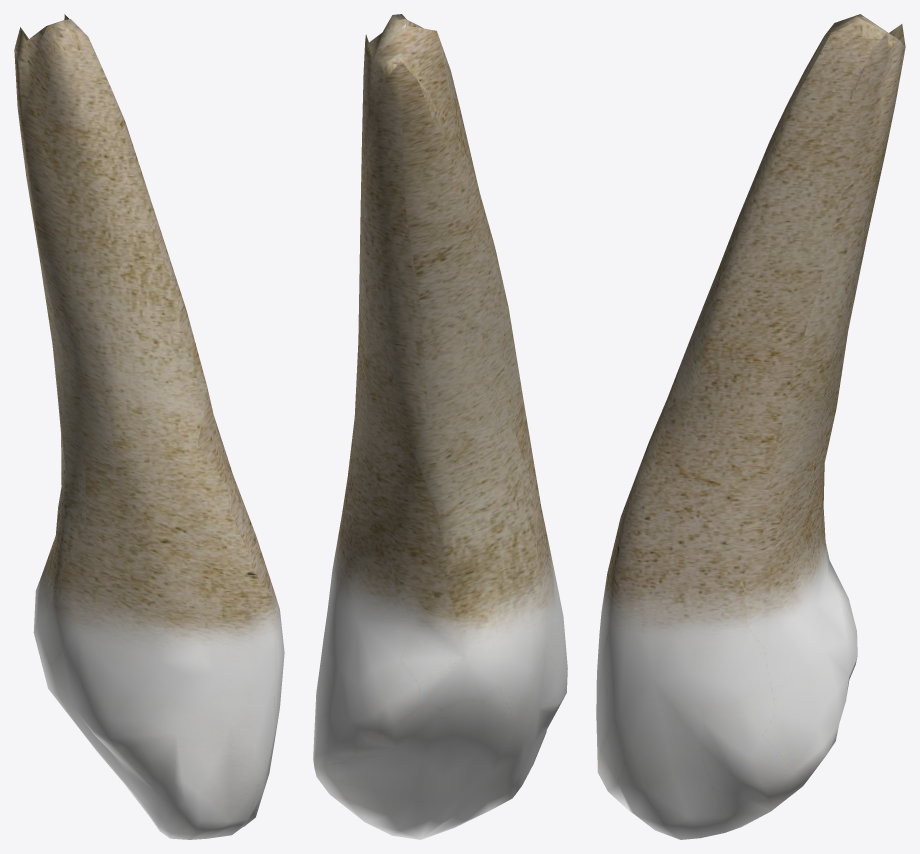
File: хоншоорын соёо.fbx
3 views of the same model, side by side, from view 1: azimuth 30°, elevation 25°; view 2: azimuth 150°, elevation 25°; view 3: azimuth 270°, elevation 25° (orthographic). The views are drawn at different scales.
Parts seen in each view (by area): view 1: polySurface33; view 2: polySurface33; view 3: polySurface33.
Boxes of the visible parts, box(x1,y1,x2,y2) form: polySurface33: box(14, 14, 284, 839); polySurface33: box(313, 14, 567, 839); polySurface33: box(596, 14, 905, 839).
Size of the model in its own units: 3.11 by 11.84 by 4.2.
1 material, 1 textured.
